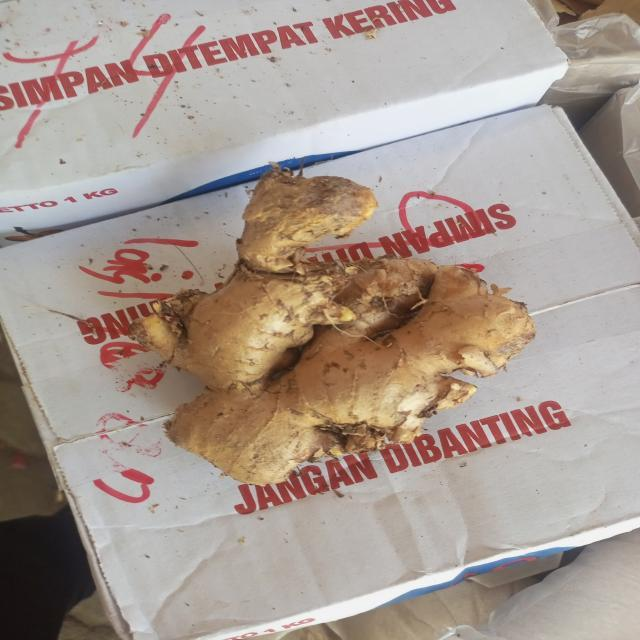ginger: (160, 172, 528, 474)
